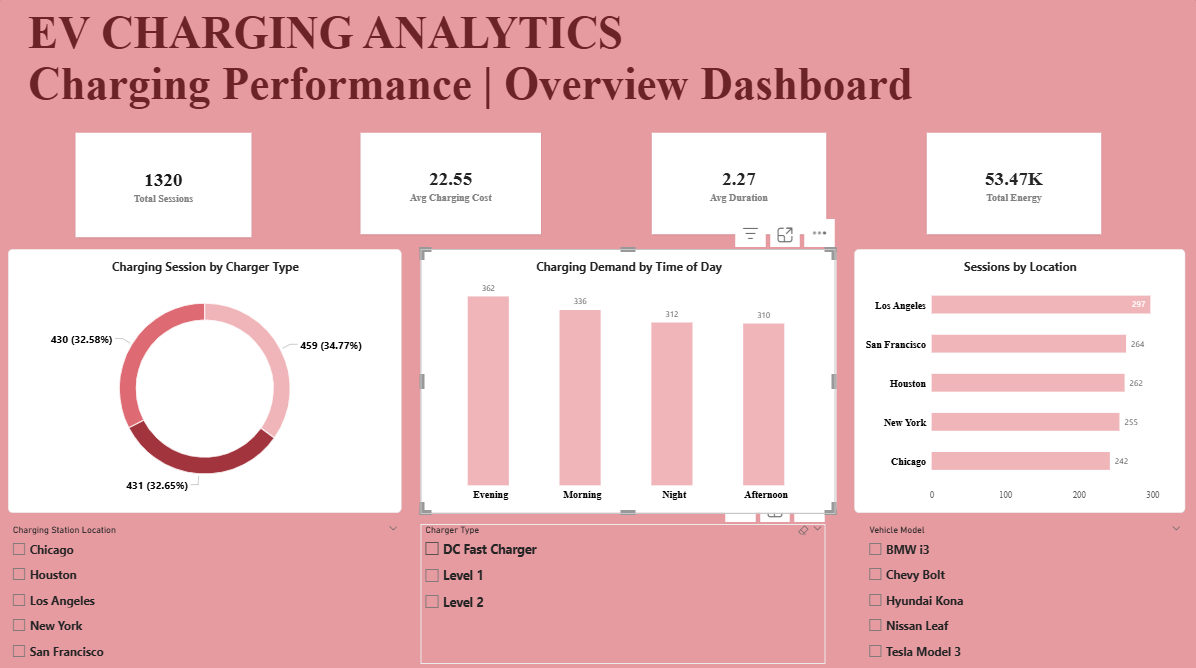

This screenshot's page, from the dashboard's own definition file:
{"tool":"powerbi","page":{"name":"Overview","canvas":[1920,1080],"ordinal":0},"visuals":[{"type":"card","fields":{"Values":["ev_charging_patterns.Total Sessions"]},"box":[124.1,214.7,281.5,167],"z":0},{"type":"card","fields":{"Values":["ev_charging_patterns.Total Energy"]},"box":[1486.4,214.7,279.2,162.2],"z":1000},{"type":"card","fields":{"Values":["ev_charging_patterns.Avg Duration"]},"box":[1045,214.7,279.2,162.2],"z":2000},{"type":"card","fields":{"Values":["ev_charging_patterns.Avg Charging Cost"]},"box":[579.8,214.7,288.7,162.2],"z":3000},{"type":"donutChart","title":"Charging Session by Charger Type","fields":{"Category":["ev_charging_patterns.Charger Type"],"Y":["CountNonNull(ev_charging_patterns.User ID)"]},"box":[16.7,400.8,629.9,422.3],"z":4000},{"type":"clusteredBarChart","title":"Sessions by Location","fields":{"Category":["ev_charging_patterns.Charging Station Location"],"Y":["CountNonNull(ev_charging_patterns.User ID)"]},"box":[1369.5,400.8,529.7,422.3],"z":5000},{"type":"clusteredColumnChart","title":"Charging Demand by Time of Day","fields":{"Category":["ev_charging_patterns.Time of Day"],"Y":["CountNonNull(ev_charging_patterns.User ID)"]},"box":[675.2,400.8,665.7,422.3],"z":6000},{"type":"slicer","fields":{"Values":["ev_charging_patterns.Charging Station Location"]},"box":[16.7,839.8,629.9,224.3],"z":7000},{"type":"slicer","fields":{"Values":["ev_charging_patterns.Charger Type"]},"box":[675.2,839.8,649,224.3],"z":8000},{"type":"slicer","fields":{"Values":["ev_charging_patterns.Vehicle Model"]},"box":[1386.2,839.8,513,241],"z":9000},{"type":"textbox","title":"EV CHARGING ANALYTICS Charging Performance | Overview Dashboard","box":[47.7,11.9,1851.5,171.8],"z":11000}]}

Visuals, with their boxes in screenshot pixels (x1, y1, x2, y2), scaled from the page's 1920x1080 canvas onto the 1196x668 screenshot:
card - ev_charging_patterns.Total Sessions: 77,133,253,236
card - ev_charging_patterns.Total Energy: 926,133,1100,233
card - ev_charging_patterns.Avg Duration: 651,133,825,233
card - ev_charging_patterns.Avg Charging Cost: 361,133,541,233
"Charging Session by Charger Type" donutChart: 10,248,403,509
"Sessions by Location" clusteredBarChart: 853,248,1183,509
"Charging Demand by Time of Day" clusteredColumnChart: 421,248,835,509
slicer - ev_charging_patterns.Charging Station Location: 10,519,403,658
slicer - ev_charging_patterns.Charger Type: 421,519,825,658
slicer - ev_charging_patterns.Vehicle Model: 863,519,1183,667
"EV CHARGING ANALYTICS Charging Performance | Overview Dashboard" textbox: 30,7,1183,114
